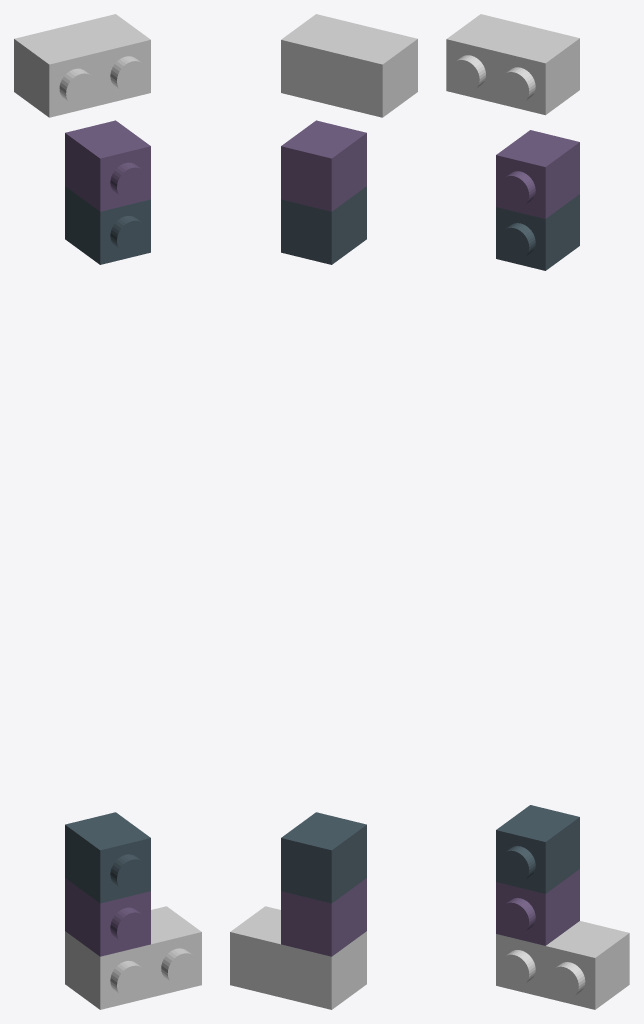
The model's file is current.glb.
3 views of the same model, side by side, from view 1: azimuth 30°, elevation 25°; view 2: azimuth 150°, elevation 25°; view 3: azimuth 330°, elevation 25° (orthographic). The views are drawn at different scales.
Visible parts, largest first — view 1: world; view 2: world; view 3: world.
Boxes of the visible parts, x1,y1,x2,y2 form: world: (14,14,201,1009); world: (230,14,417,1009); world: (446,14,629,1009).
Size of the model in its own units: 24 by 144 by 11.4.
